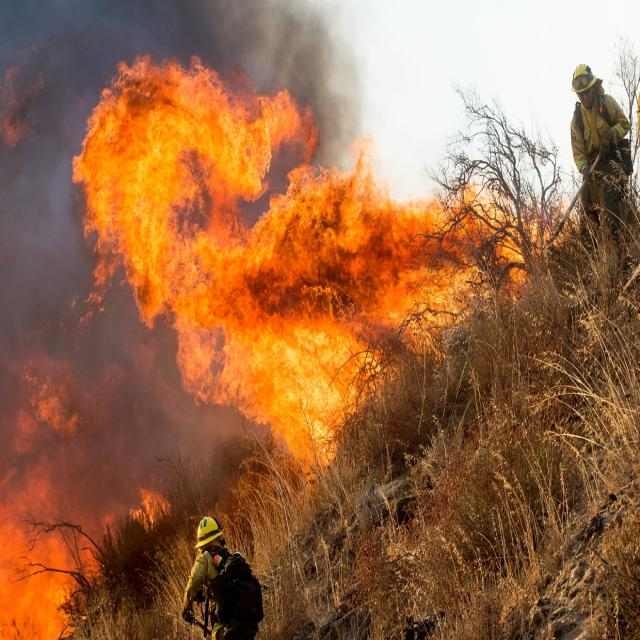Fire: (80, 61, 566, 458), (0, 444, 157, 640)
Smoke: (0, 329, 178, 489), (1, 3, 89, 320), (80, 0, 320, 79)
